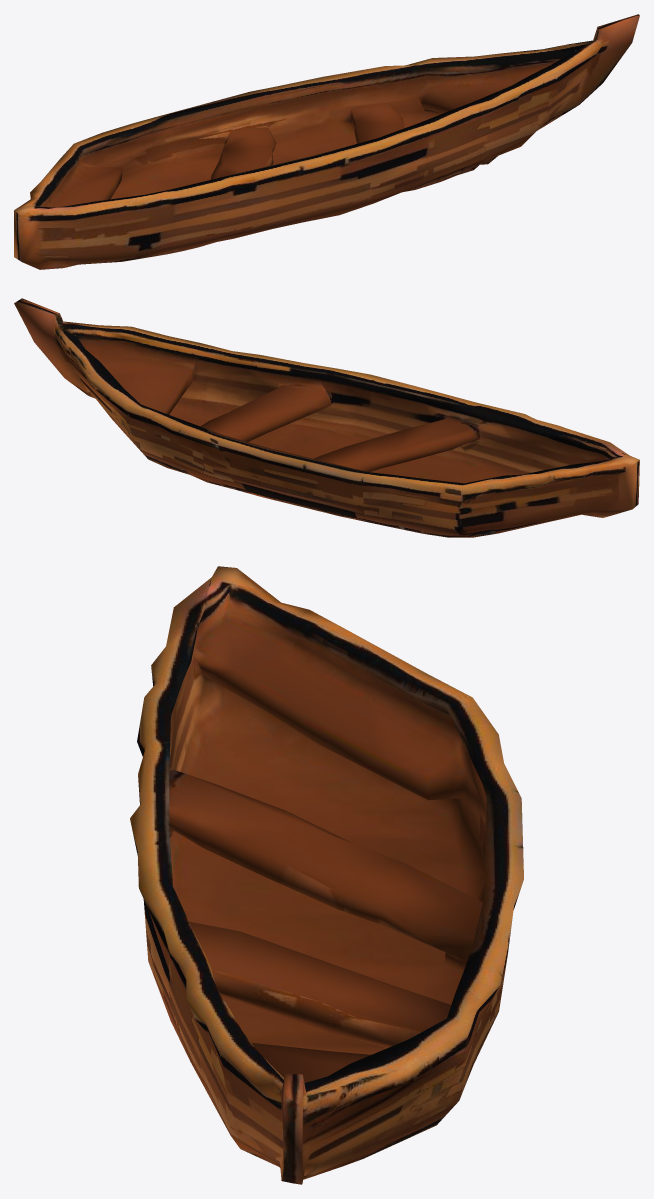
File: demo_rowboat_pixel.glb
3 renders of one model, top to bottom at view 1: azimuth 30°, elevation 25°; view 2: azimuth 150°, elevation 25°; view 3: azimuth 270°, elevation 25°, orthographic. The views are drawn at different scales.
Parts seen in each view (by area): view 1: tripo_node_08aa2c8b-fb86-4d9f-b0a4-de948890ae1a.001; view 2: tripo_node_08aa2c8b-fb86-4d9f-b0a4-de948890ae1a.001; view 3: tripo_node_08aa2c8b-fb86-4d9f-b0a4-de948890ae1a.001.
Boxes of the visible parts, x1,y1,x2,y2 form: tripo_node_08aa2c8b-fb86-4d9f-b0a4-de948890ae1a.001: [14, 14, 639, 269]; tripo_node_08aa2c8b-fb86-4d9f-b0a4-de948890ae1a.001: [14, 298, 639, 537]; tripo_node_08aa2c8b-fb86-4d9f-b0a4-de948890ae1a.001: [130, 566, 523, 1184].
Bounding box in the file's own units: 1 × 0.1502 × 0.2828.
1 material, 1 textured.
